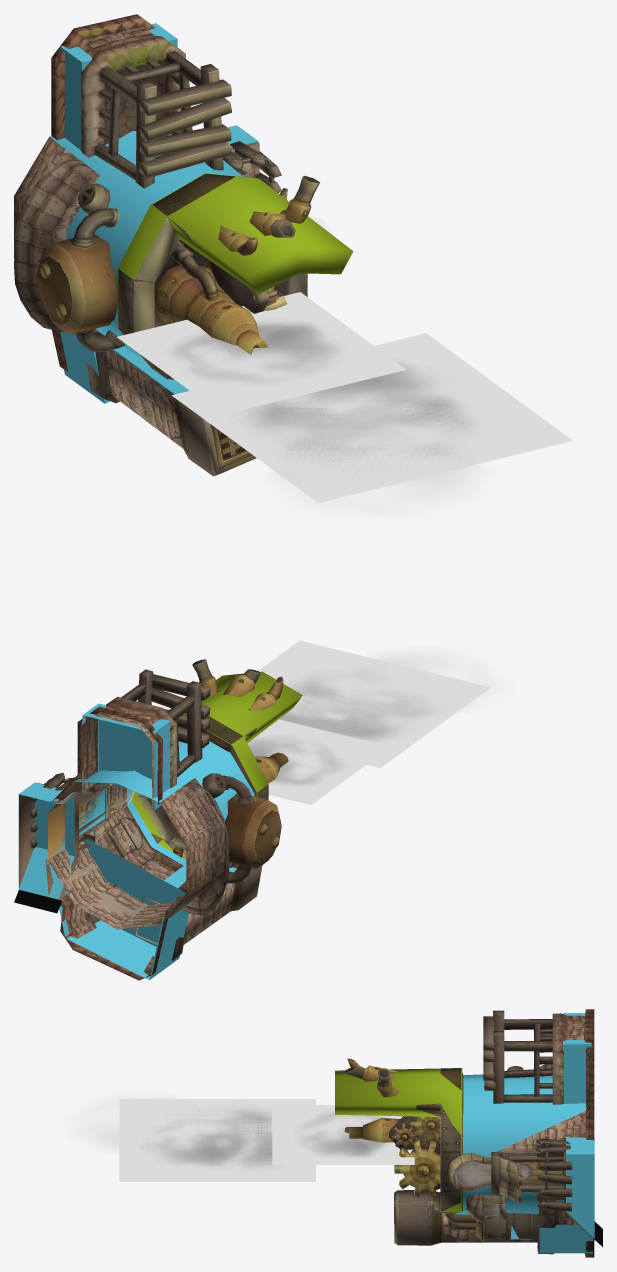
The picture shows the model from 3 angles, top to bottom: view 1: azimuth 30°, elevation 25°; view 2: azimuth 150°, elevation 25°; view 3: azimuth 270°, elevation 25°; orthographic projection. The views are drawn at different scales.
Parts seen in each view (by area): view 1: object0004_UA046, object0158_Plane, object0083_Plane, object0010_UA47, object0227_Box01, object0121_Plane, "object0025_Editable Poly", object0177_Plane, object0103_Plane, object0140_Plane; view 2: object0004_UA046, object0227_Box01, object0158_Plane, object0083_Plane, object0121_Plane, object0010_UA47, object0103_Plane, object0014_UA045-s, object0017_floor1, "object0025_Editable Poly"; view 3: object0004_UA046, object0227_Box01, object0158_Plane, object0083_Plane, object0010_UA47, object0140_Plane, "object0031_Editable Poly", object0177_Plane, object0103_Plane, object0065_light:1, "object0025_Editable Poly", object0121_Plane (+3 smaller).
Boxes of the visible parts, box(x1,y1,x2,y2) form: object0004_UA046: box(14, 14, 320, 476); object0158_Plane: box(172, 333, 572, 502); object0083_Plane: box(117, 292, 406, 414); object0010_UA47: box(82, 27, 353, 367); object0227_Box01: box(49, 23, 258, 403); object0121_Plane: box(276, 408, 473, 485); "object0025_Editable Poly": box(154, 241, 267, 354); object0177_Plane: box(263, 358, 441, 421); object0103_Plane: box(277, 450, 479, 511); object0140_Plane: box(393, 393, 483, 439); object0004_UA046: box(31, 659, 283, 980); object0227_Box01: box(18, 703, 254, 980); object0158_Plane: box(258, 640, 490, 767); object0083_Plane: box(247, 719, 390, 804); object0121_Plane: box(310, 659, 454, 720); object0010_UA47: box(121, 671, 302, 867); object0103_Plane: box(379, 650, 493, 705); object0014_UA045-s: box(19, 782, 79, 900); object0017_floor1: box(14, 890, 61, 913); "object0025_Editable Poly": box(254, 752, 288, 783); object0004_UA046: box(343, 1009, 594, 1257); object0227_Box01: box(438, 1013, 594, 1253); object0158_Plane: box(119, 1099, 315, 1181); object0083_Plane: box(272, 1105, 414, 1164); object0010_UA47: box(335, 1068, 462, 1212); object0140_Plane: box(143, 1117, 254, 1167); "object0031_Editable Poly": box(394, 1139, 440, 1197); object0177_Plane: box(222, 1115, 285, 1168); object0103_Plane: box(78, 1098, 170, 1148); object0065_light:1: box(454, 1161, 534, 1213); "object0025_Editable Poly": box(344, 1118, 399, 1142); object0121_Plane: box(108, 1105, 218, 1152).
Bounding box in the file's own units: 13.5 × 12.88 × 29.71.
